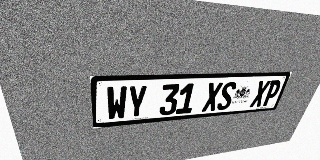1: (176, 83, 197, 114)
3: (159, 84, 180, 116)
P: (261, 80, 283, 106)
S: (216, 82, 238, 110)
W: (106, 86, 127, 121)
X: (201, 82, 223, 112), (249, 80, 271, 107)
Y: (127, 85, 148, 119)
